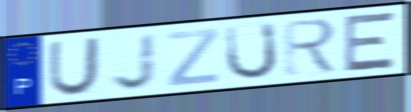E: (342, 10, 398, 75)
J: (110, 31, 158, 92)
R: (282, 16, 341, 77)
U: (46, 36, 102, 98), (224, 20, 280, 82)
Z: (166, 26, 220, 88)
